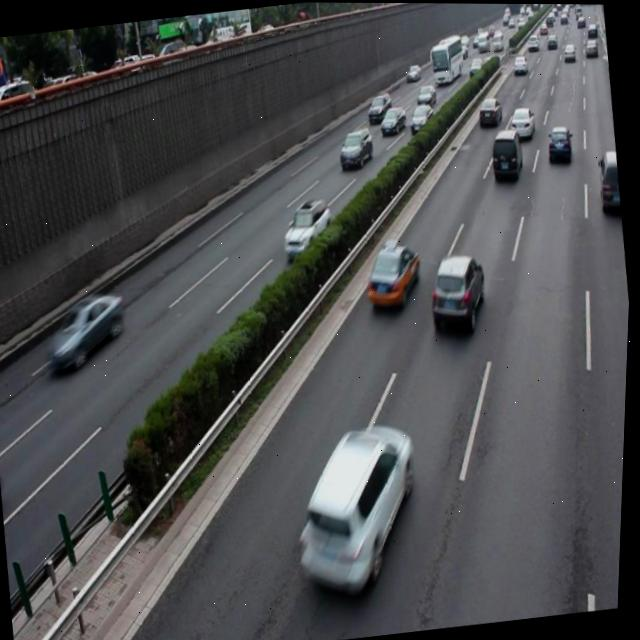car: (282, 418, 433, 608), (41, 288, 130, 375), (425, 250, 491, 337), (361, 238, 425, 312), (278, 194, 336, 260), (592, 147, 624, 214), (336, 125, 375, 169), (506, 103, 537, 141), (544, 123, 572, 163)
truck: (487, 125, 524, 180)
